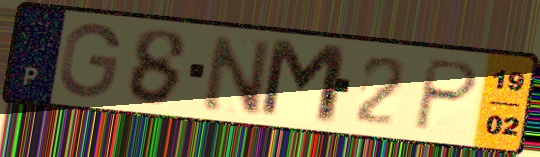2: (351, 54, 408, 128)
8: (127, 27, 190, 108)
G: (55, 20, 124, 101)
M: (255, 35, 351, 129)
N: (200, 31, 274, 117)
P: (408, 56, 483, 134)
